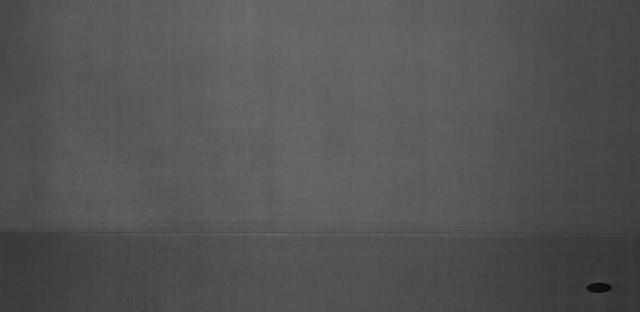punching_hole: (583, 279, 616, 296)
welding_line: (4, 215, 636, 250)
